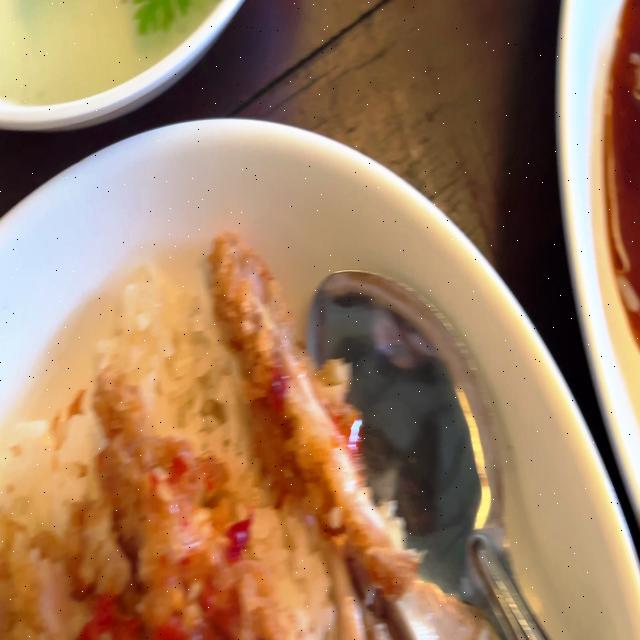chicken_rice: (0, 232, 465, 639)
fried_chicken: (202, 234, 422, 588), (52, 368, 238, 632)
